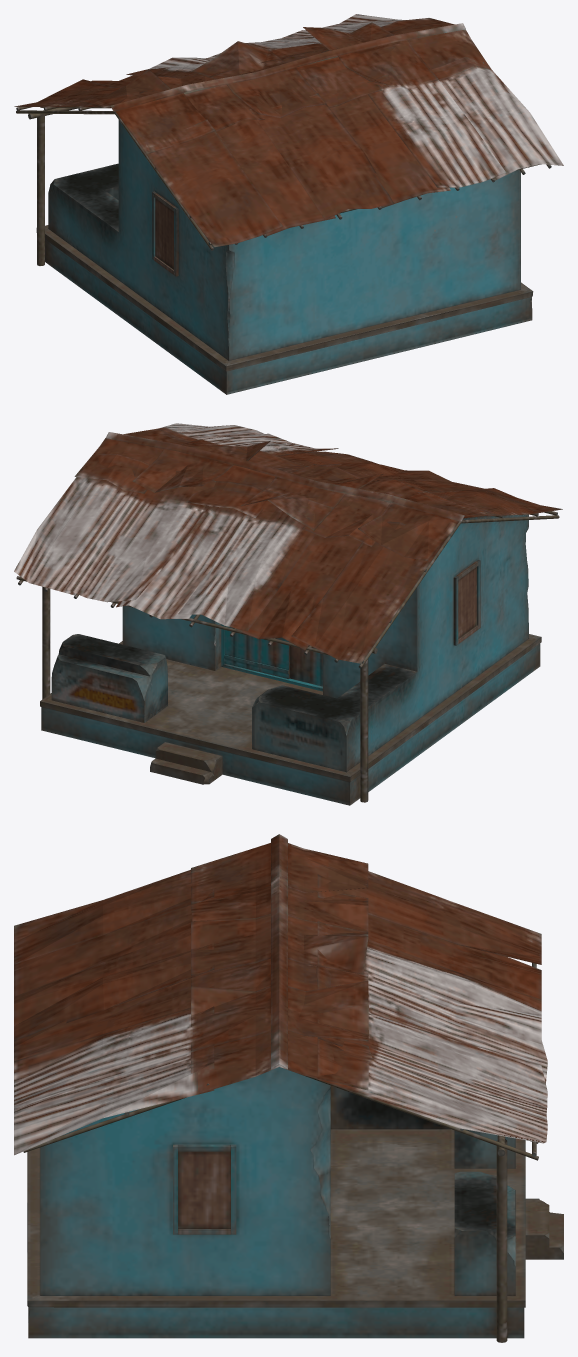
3 renders of one model, top to bottom at view 1: azimuth 30°, elevation 25°; view 2: azimuth 150°, elevation 25°; view 3: azimuth 270°, elevation 25°, orthographic. The views are drawn at different scales.
Parts seen in each view (by area): view 1: Object031_06 - Default_0; view 2: Object031_06 - Default_0; view 3: Object031_06 - Default_0.
Boxes of the visible parts, x1,y1,x2,y2 form: Object031_06 - Default_0: (14,14,563,394); Object031_06 - Default_0: (14,423,562,805); Object031_06 - Default_0: (14,834,563,1342).
Size of the model in its own units: 58.49 by 35.71 by 59.68.
Materials: 1 (1 with a texture image).
